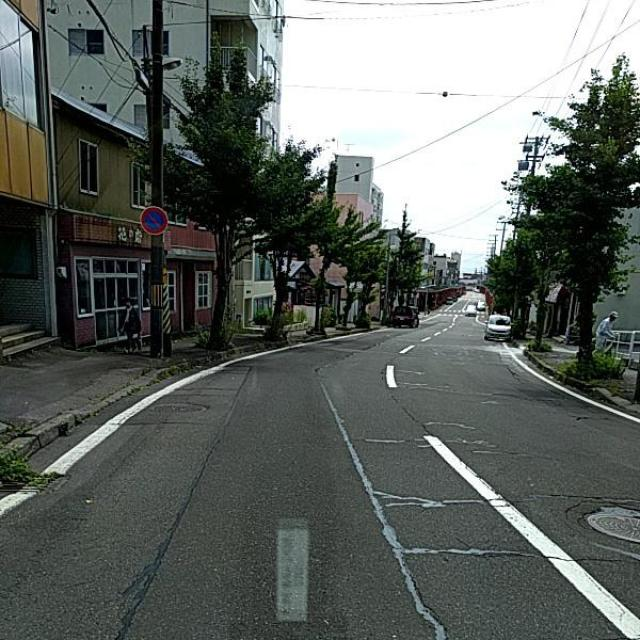Crack: (132, 348, 640, 640)
